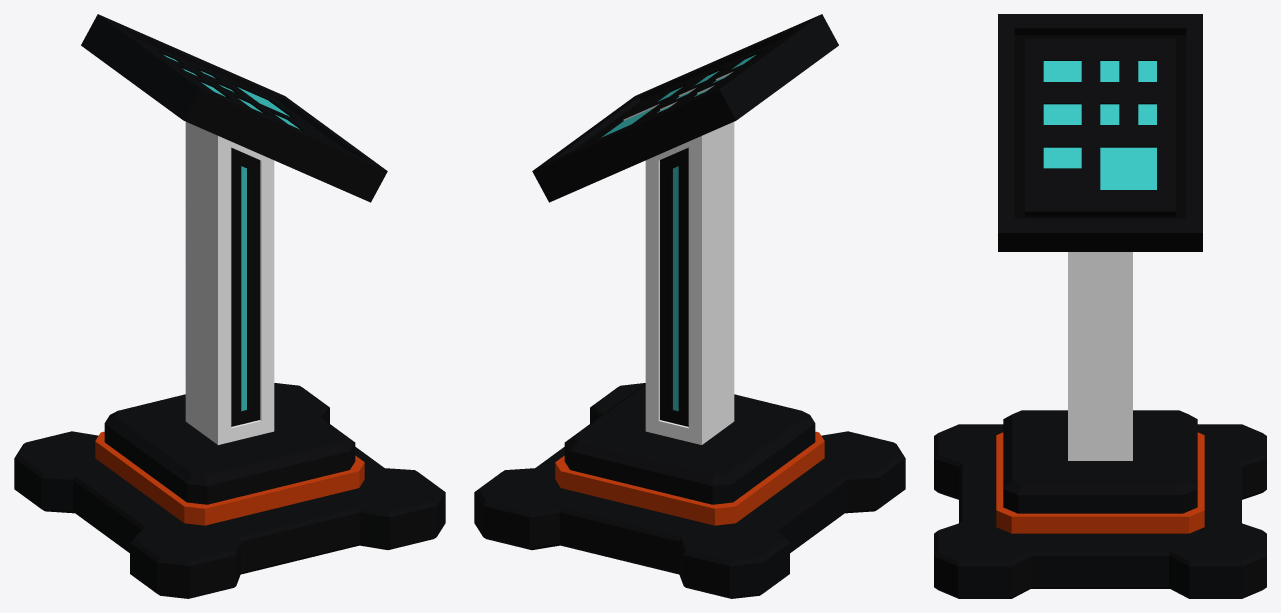
File: SM_Control_Pannel.obj
3 views of the same model, side by side, from view 1: azimuth 30°, elevation 25°; view 2: azimuth 150°, elevation 25°; view 3: azimuth 270°, elevation 25° (orthographic).
Parts seen in each view (by area): view 1: SM_Control_Pannel_Base; view 2: SM_Control_Pannel_Base; view 3: SM_Control_Pannel_Base.
Boxes of the visible parts, box(x1,y1,x2,y2) form: SM_Control_Pannel_Base: box(14, 14, 445, 598); SM_Control_Pannel_Base: box(474, 14, 905, 598); SM_Control_Pannel_Base: box(934, 14, 1266, 598).
Size of the model in its own units: 0.8 by 1.27 by 0.8.
